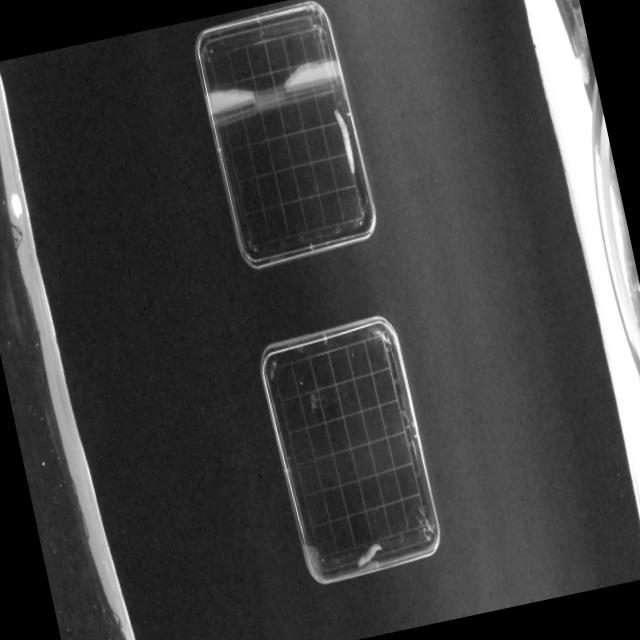larva: (330, 104, 360, 176), (353, 540, 385, 568)
